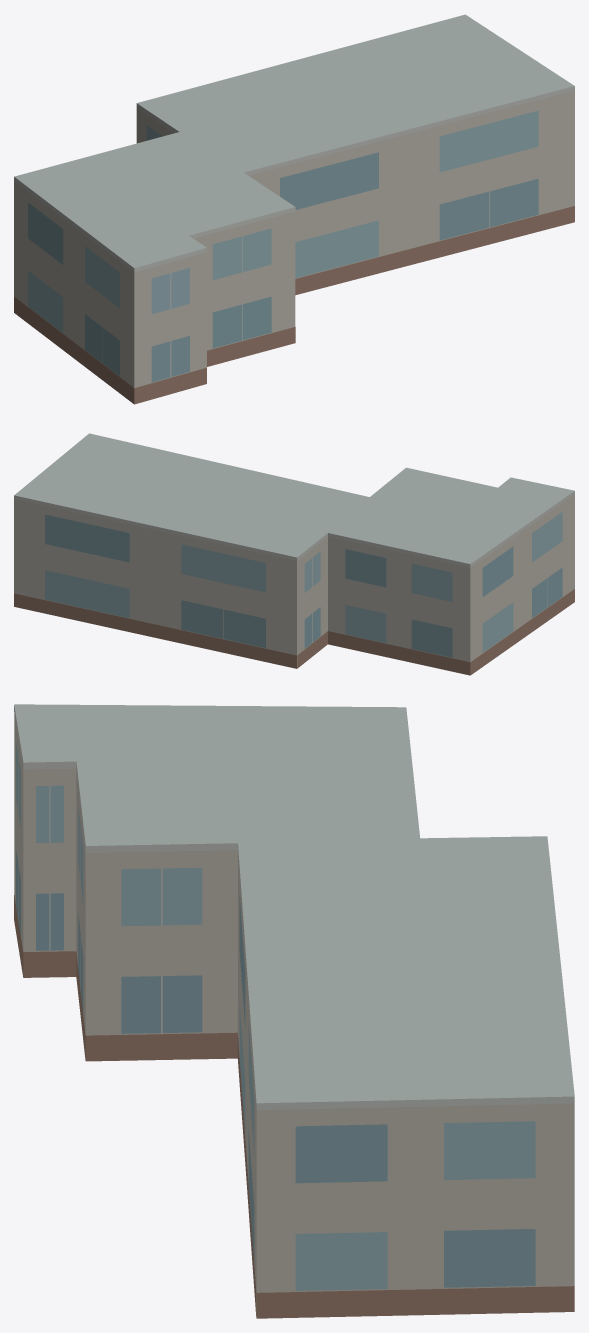
File: survey-upis-32600757.glb
3 views of the same model, one above another, from view 1: azimuth 30°, elevation 25°; view 2: azimuth 150°, elevation 25°; view 3: azimuth 270°, elevation 25° (orthographic). The views are drawn at different scales.
Visible parts, largest first — view 1: survey-upis-32600757.tmp; view 2: survey-upis-32600757.tmp; view 3: survey-upis-32600757.tmp.
Part boxes in pixels (left/top/right/bottom): survey-upis-32600757.tmp: left=14, top=14, right=574, bottom=404; survey-upis-32600757.tmp: left=14, top=433, right=574, bottom=675; survey-upis-32600757.tmp: left=14, top=704, right=574, bottom=1318.
Size of the model in its own units: 30.41 by 7.65 by 18.06.
